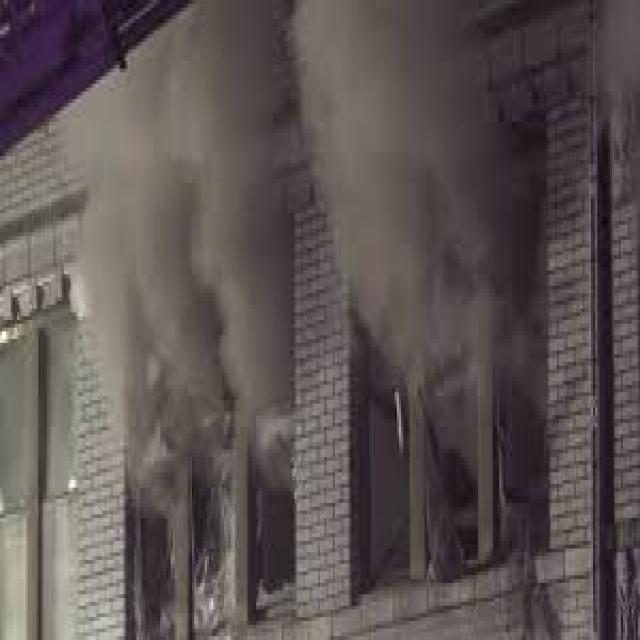Smoke: (62, 0, 530, 466)
